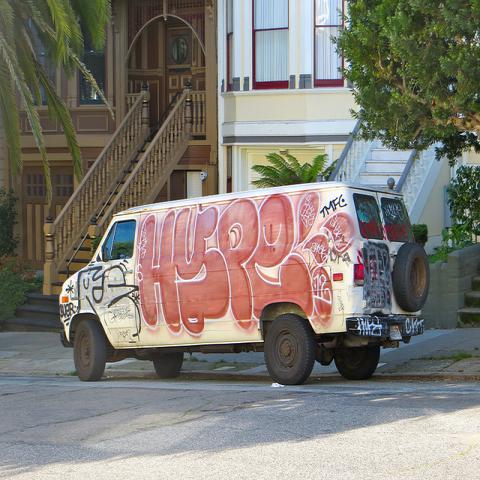truck: (56, 182, 430, 387)
